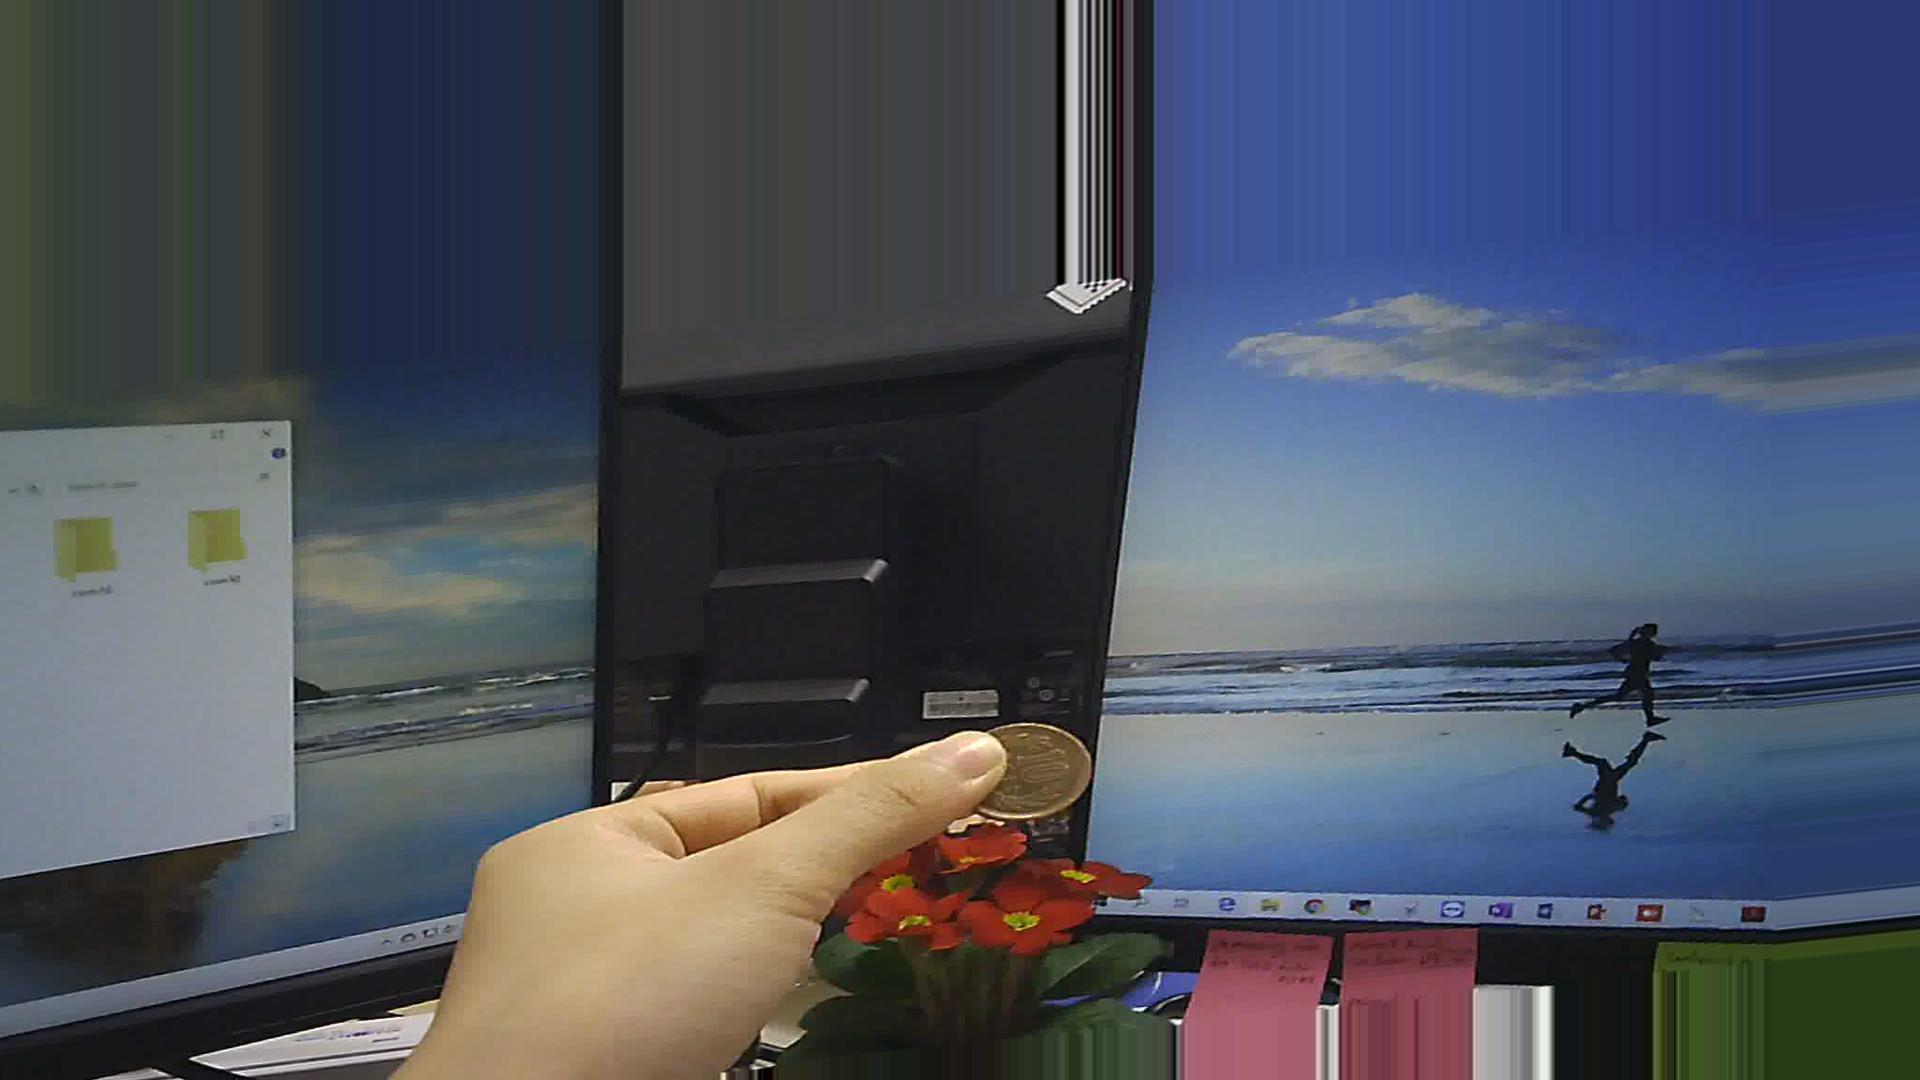10 Yen: (963, 717, 1097, 820)
